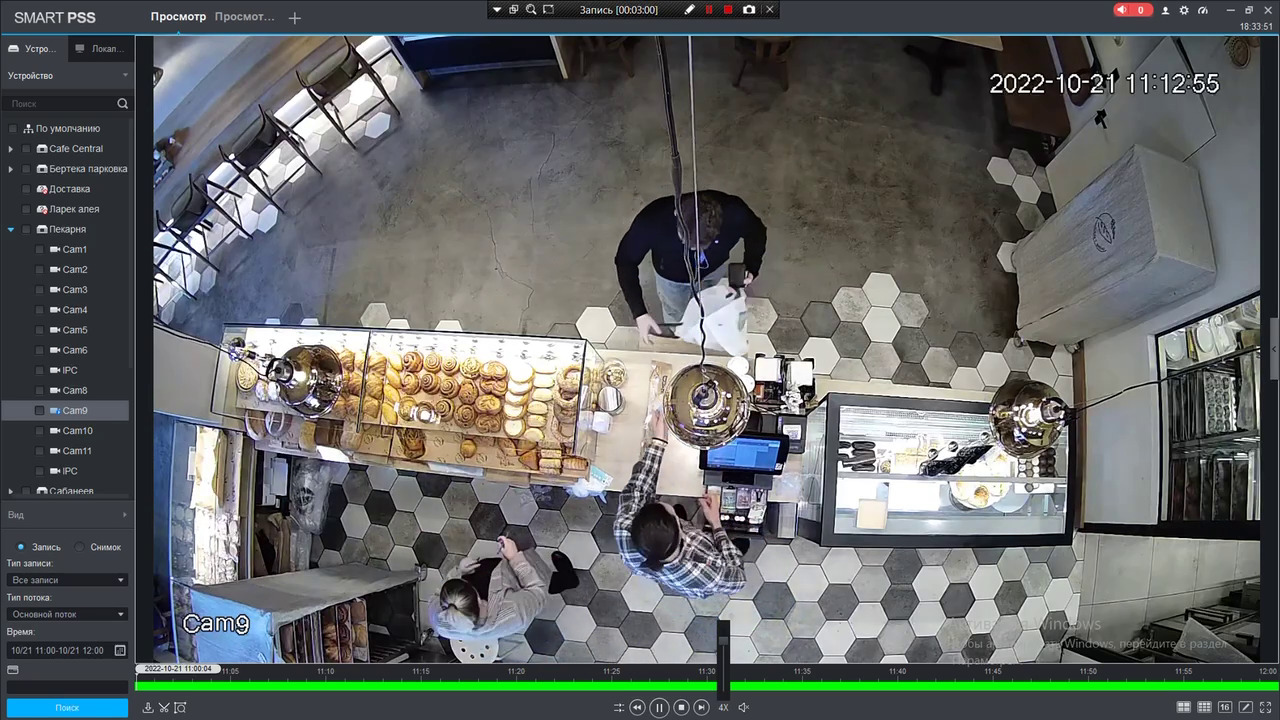barcounter: (179, 329, 1098, 555)
openedcash: (700, 431, 782, 533)
pack: (638, 350, 674, 459)
person: (620, 186, 771, 343)
